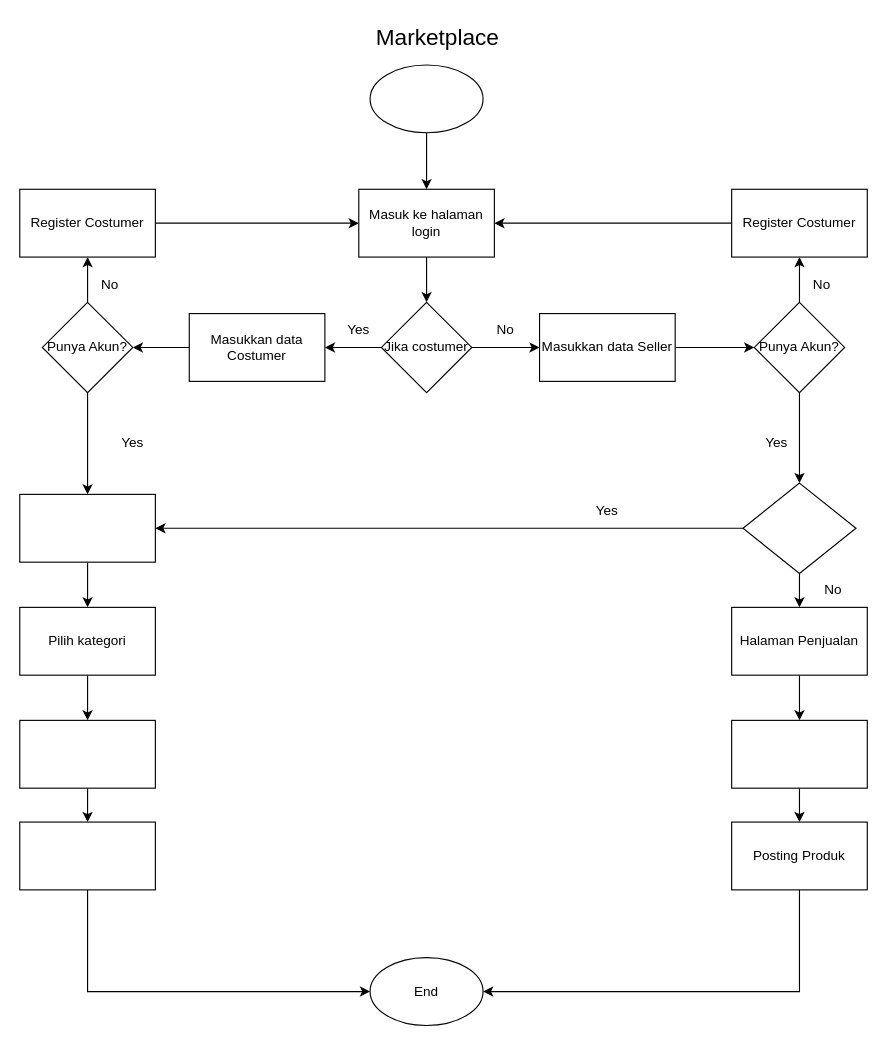
This 887x1045 diagram has some shape labels left out. Each missing label, with the centre of its shape:
Cekout: point (87, 855)
Halaman Awal: point (87, 527)
Ingin Belanja?: point (799, 527)
Masukkan data produk: point (799, 753)
Pilih Product: point (87, 753)
Start: point (426, 98)
